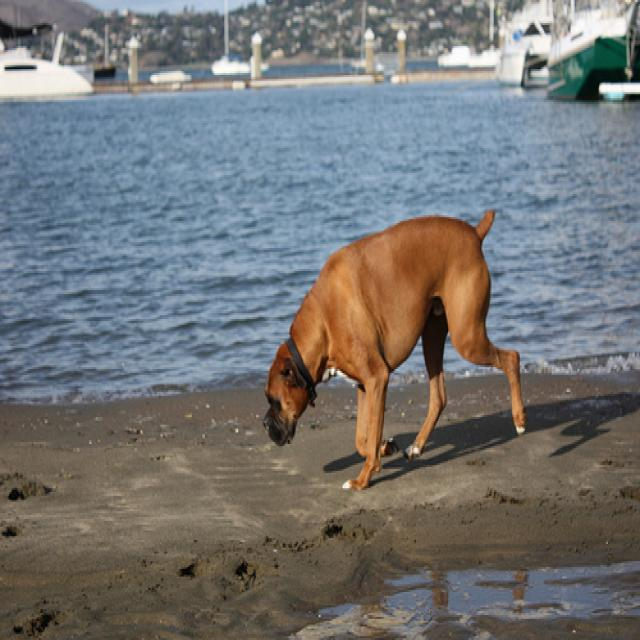dog: (261, 354, 307, 442)
